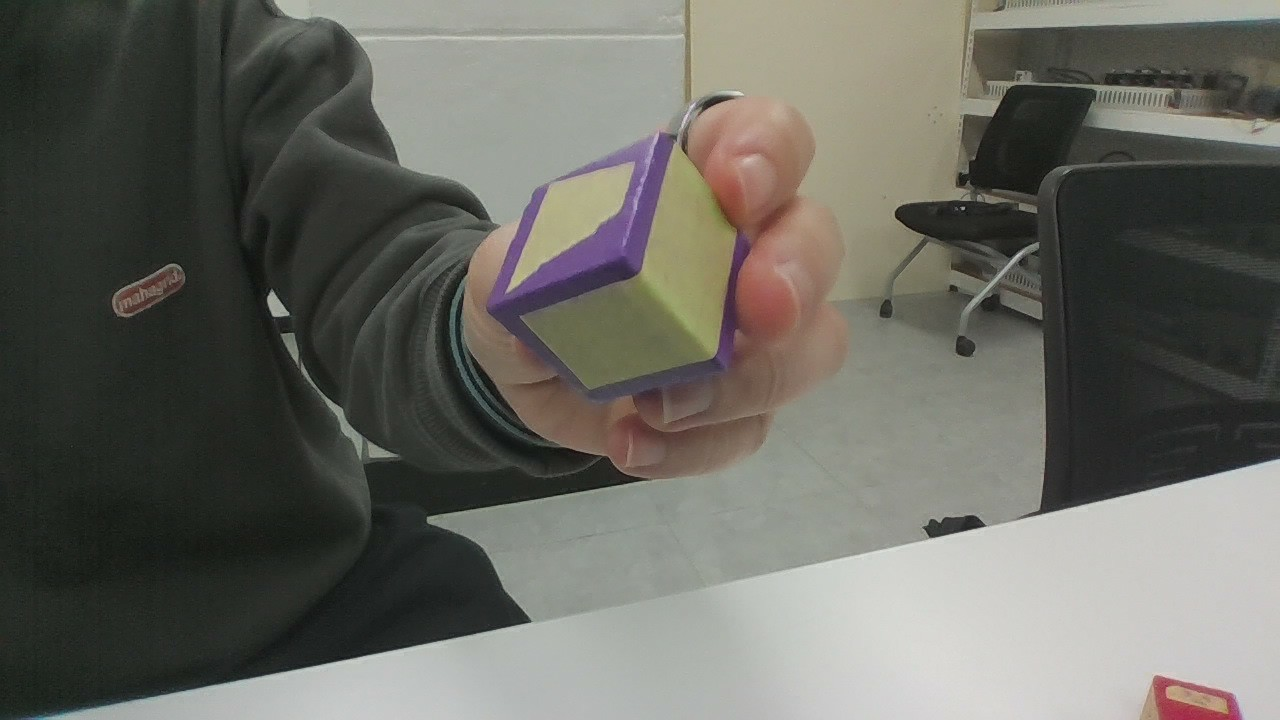Error: (442, 267, 699, 528)
